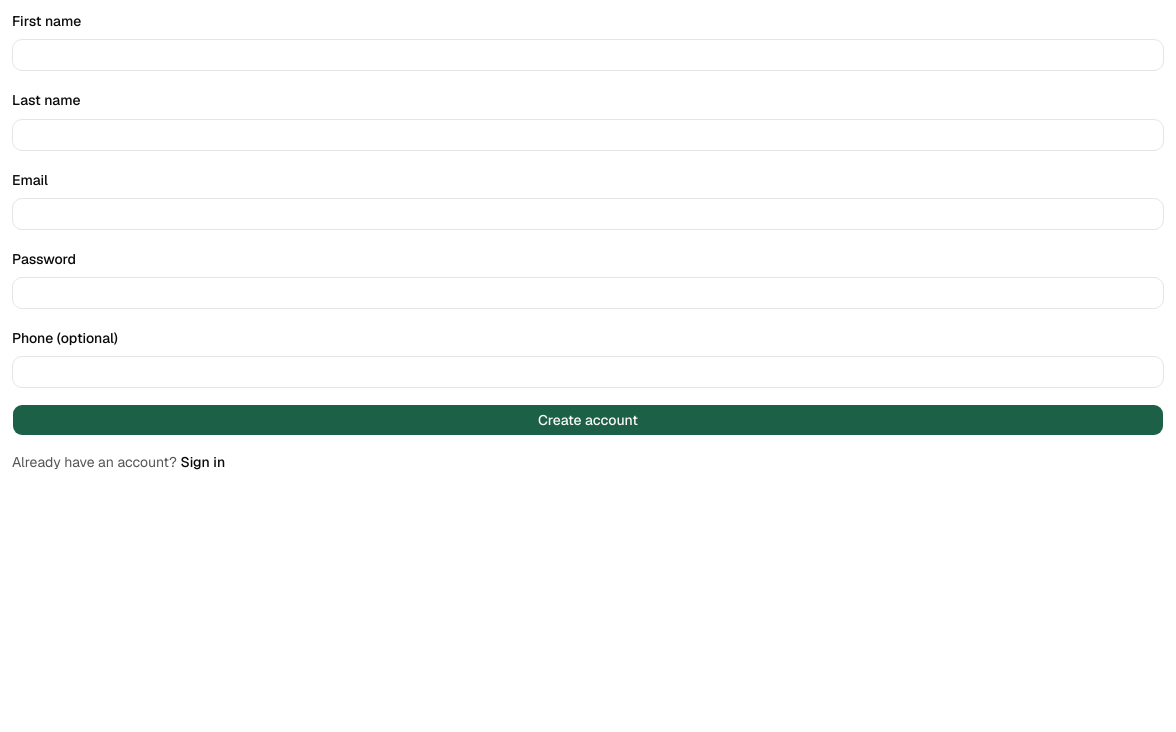
RegisterForm › shows duplicate-email 409 instead of treating it as OCC
Type "Ada" into the field labelled "First name" at (588, 55), box x1=12 y1=39 x2=1164 y2=71
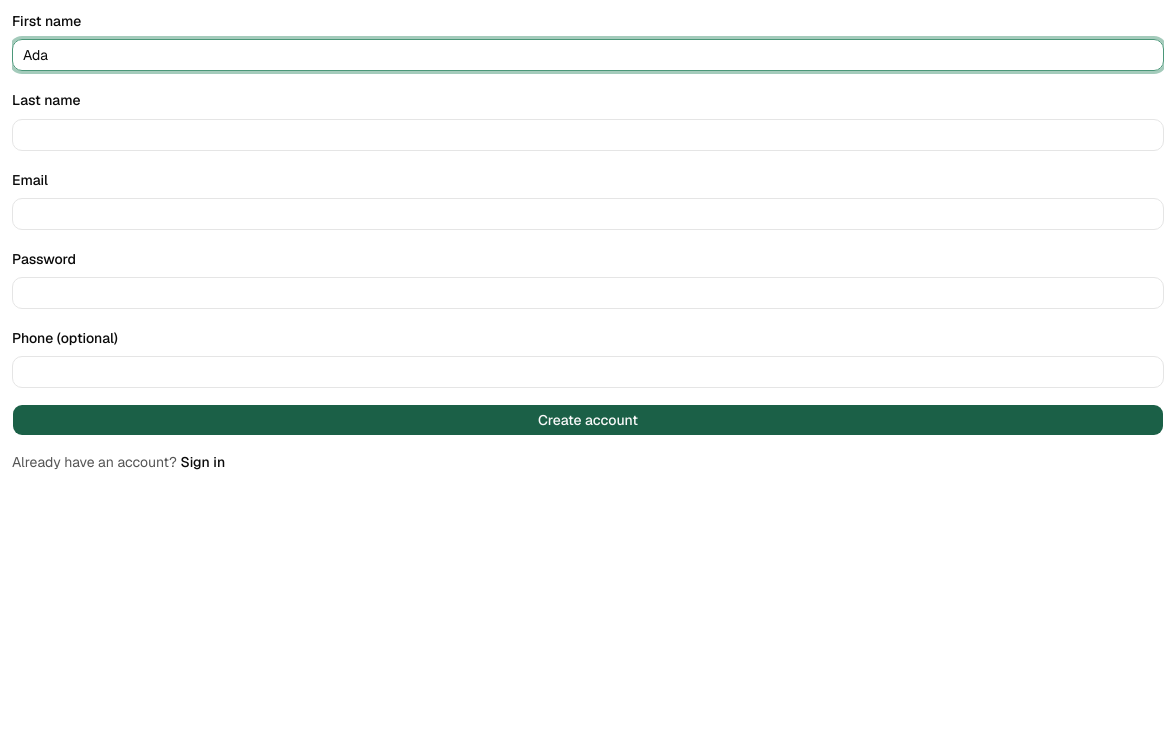
Type "Lovelace" into the field labelled "Last name" at (588, 134), box x1=12 y1=118 x2=1164 y2=150
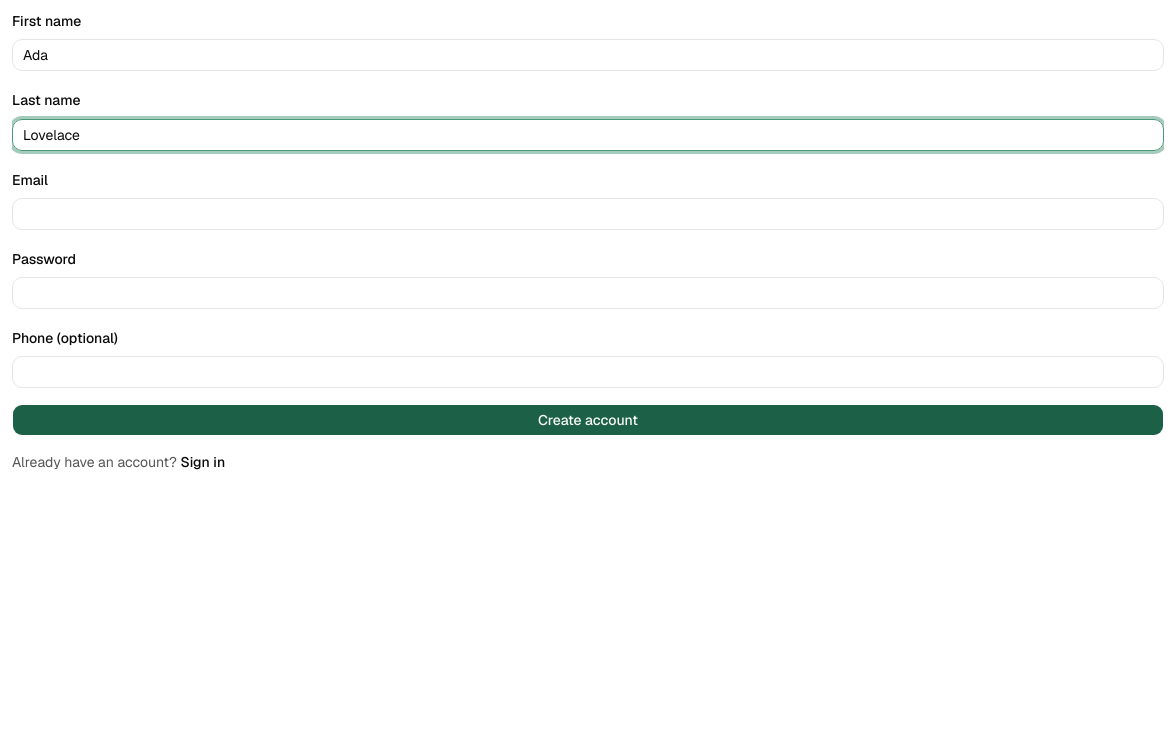
Type "ada@example.com" into the field labelled "Email" at (588, 214), box x1=12 y1=198 x2=1164 y2=230
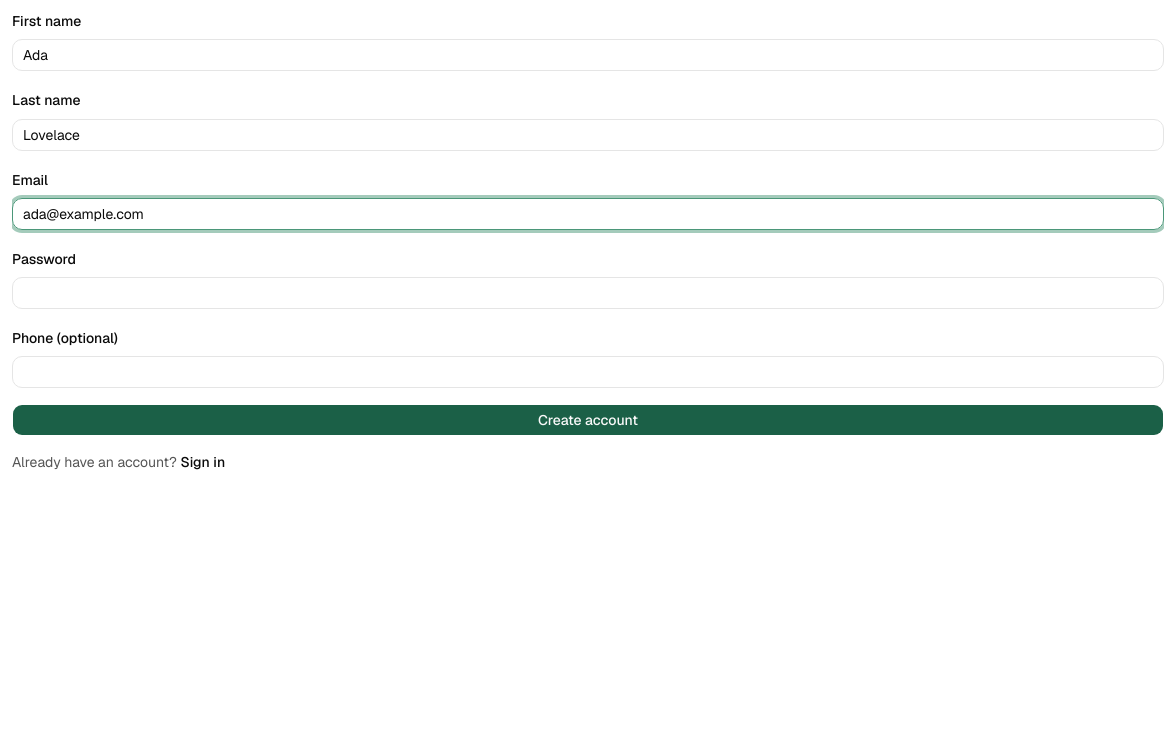
Type "secret1" into the password field labelled "Password" at (588, 293), box x1=12 y1=277 x2=1164 y2=309
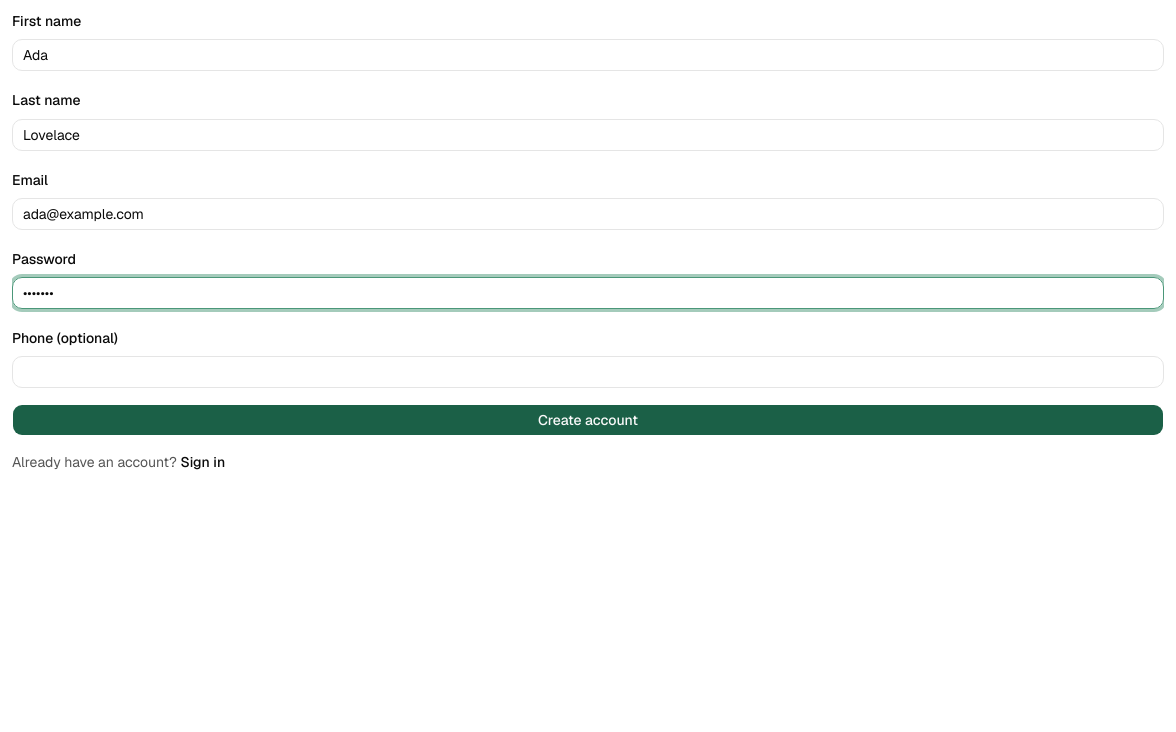
Click the button "Create account" at (588, 420), box x1=12 y1=404 x2=1164 y2=436
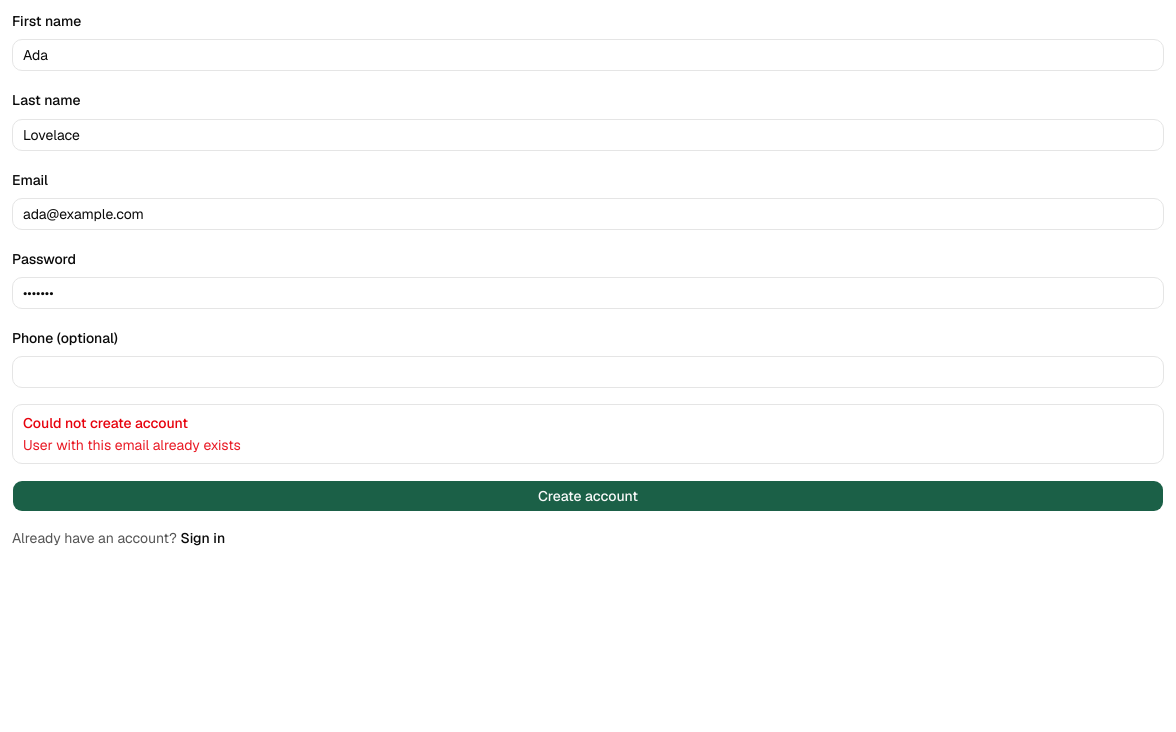
Expected: the text "User with this email already exists" is shown, x1=23 y1=436 x2=241 y2=454
